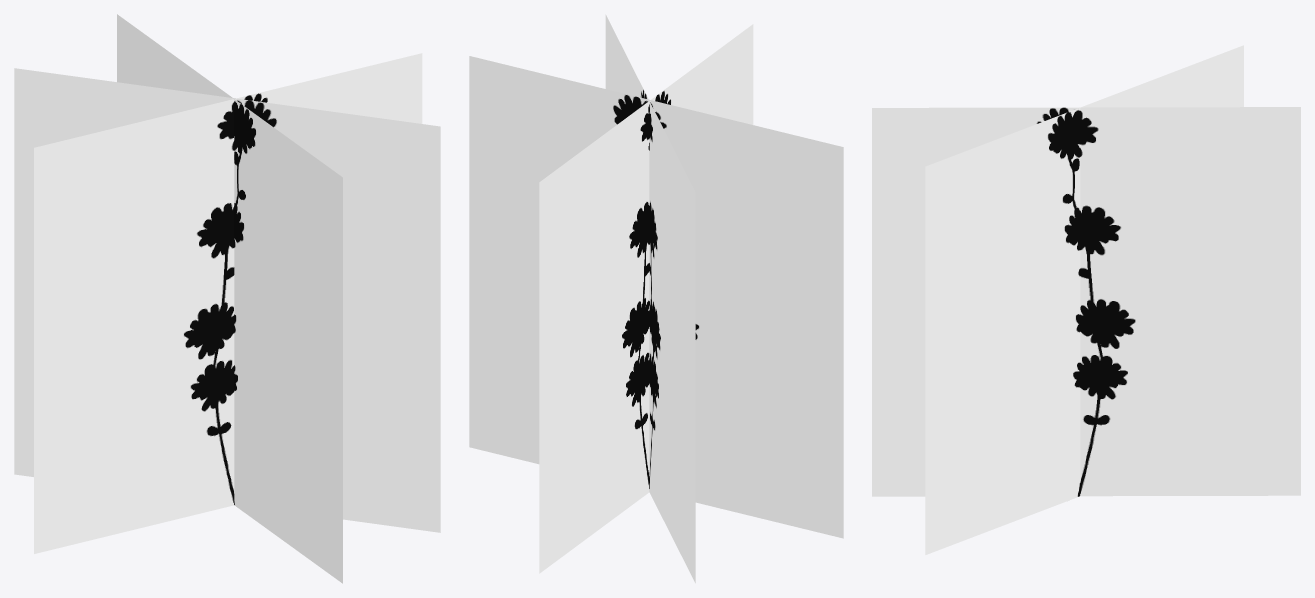
The model's file is FlowerChicory.glb.
3 views of the same model, side by side, from view 1: azimuth 30°, elevation 25°; view 2: azimuth 150°, elevation 25°; view 3: azimuth 270°, elevation 25° (orthographic). The views are drawn at different scales.
Parts seen in each view (by area): view 1: Plane.002; view 2: Plane.002; view 3: Plane.002.
Part boxes in pixels (box(x1,y1,x2,y2)): Plane.002: box(14, 14, 440, 583); Plane.002: box(469, 14, 843, 583); Plane.002: box(872, 45, 1300, 554).
Bounding box in the file's own units: 2 × 2 × 2.
2 materials, 2 textured.
